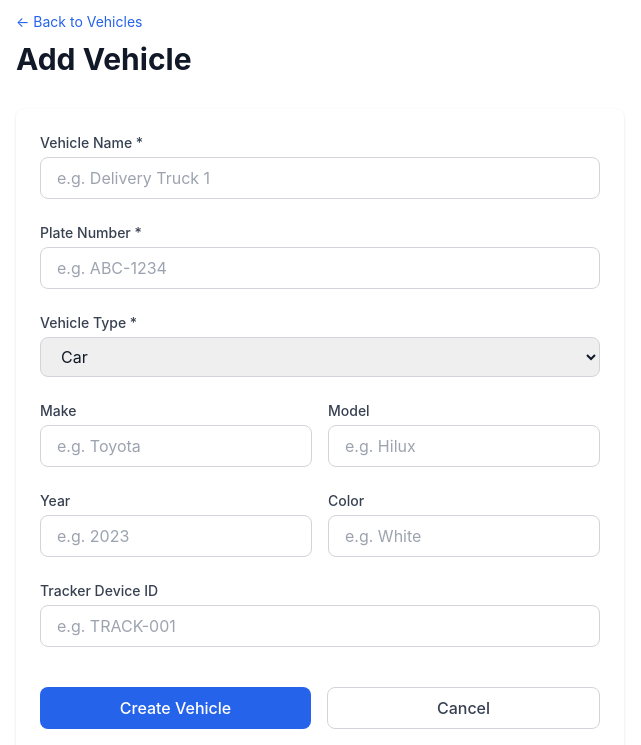
Scenario: CreateVehiclePage › joins a validation-array error response into one message
Type "Delivery Van 1" into the field labelled "Vehicle Name *" at (320, 178), box [40,157,600,199]
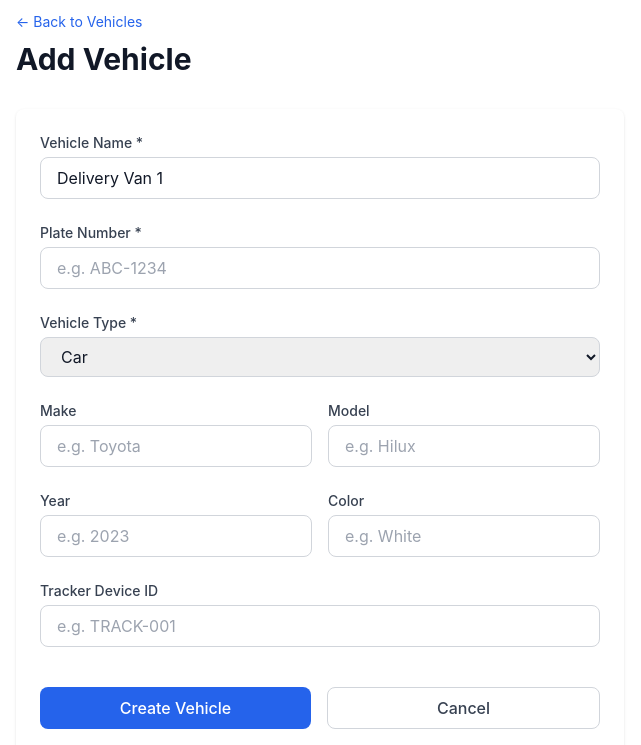
Type "AA-1234" into the field labelled "Plate Number *" at (320, 268), box [40,247,600,289]
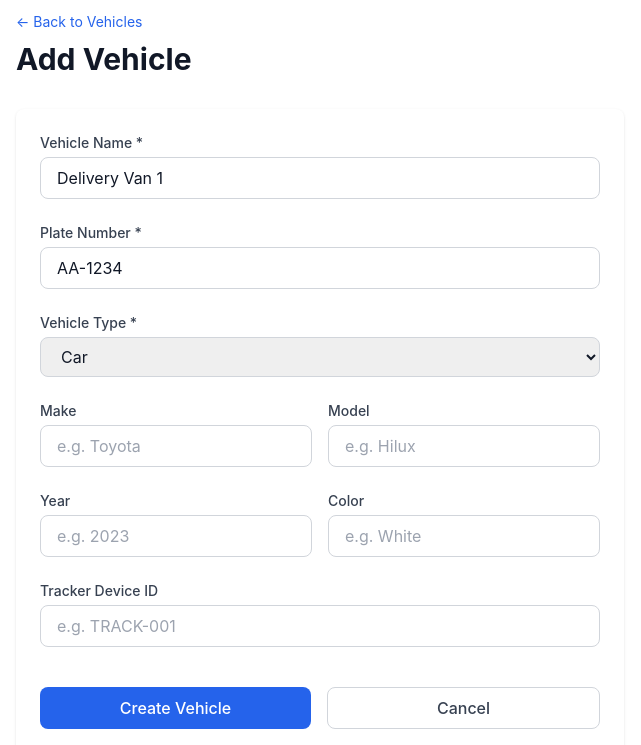
Click the button "Create Vehicle" at (176, 708), box [40,687,311,729]
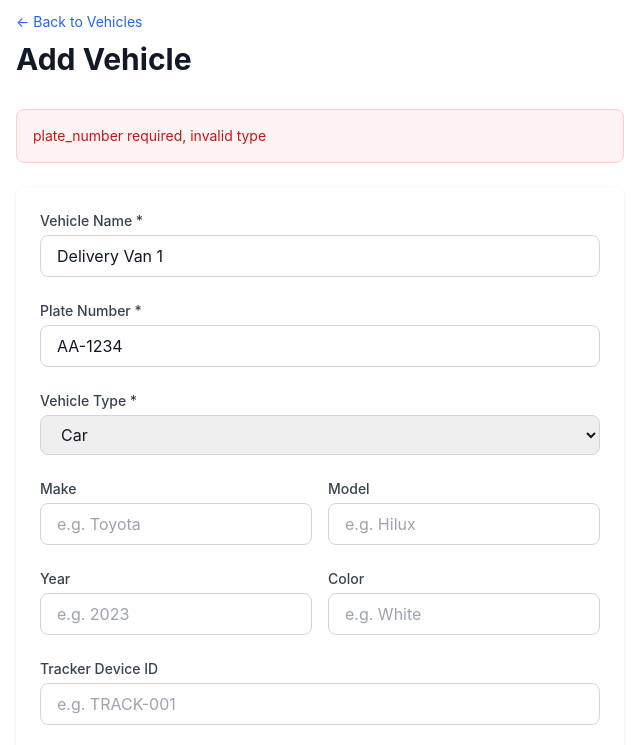
Expected: the text "plate_number required, invalid type" is shown, [16,109,624,163]
